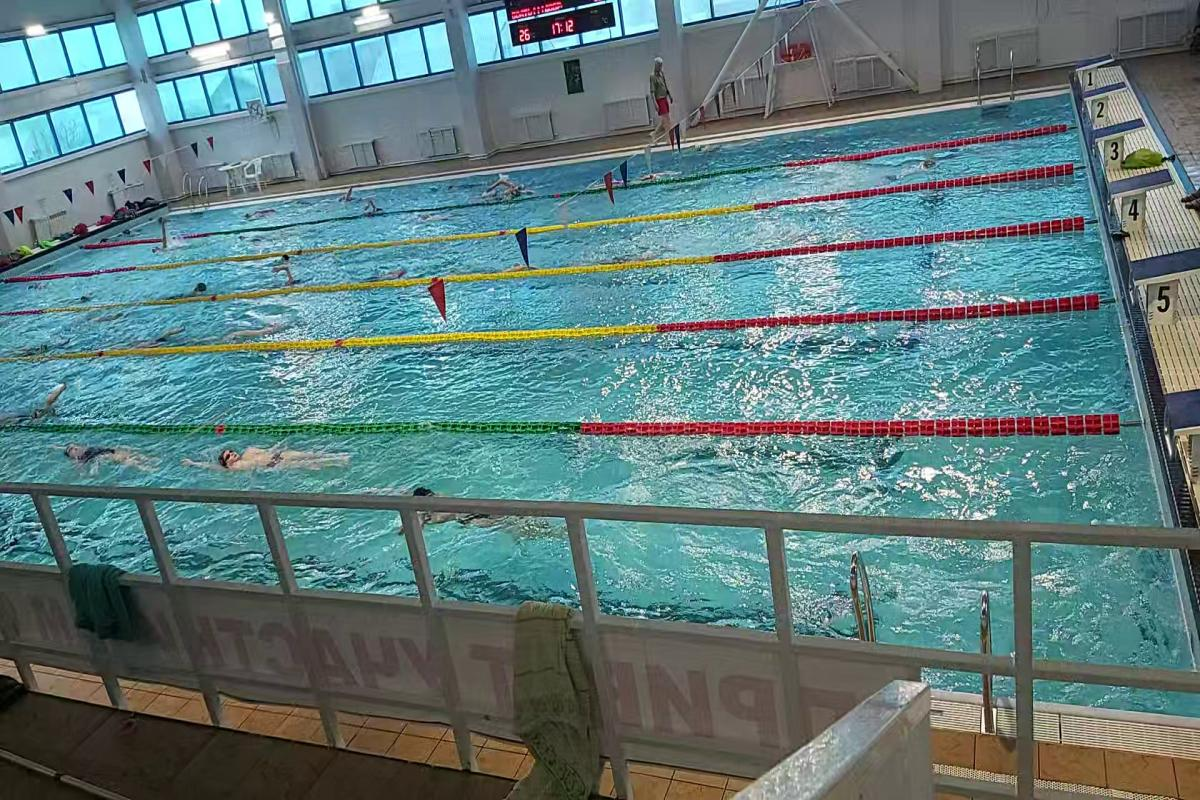swimmer: (189, 441, 360, 481), (60, 438, 164, 479), (877, 153, 941, 183), (268, 264, 310, 290), (366, 262, 410, 279)
